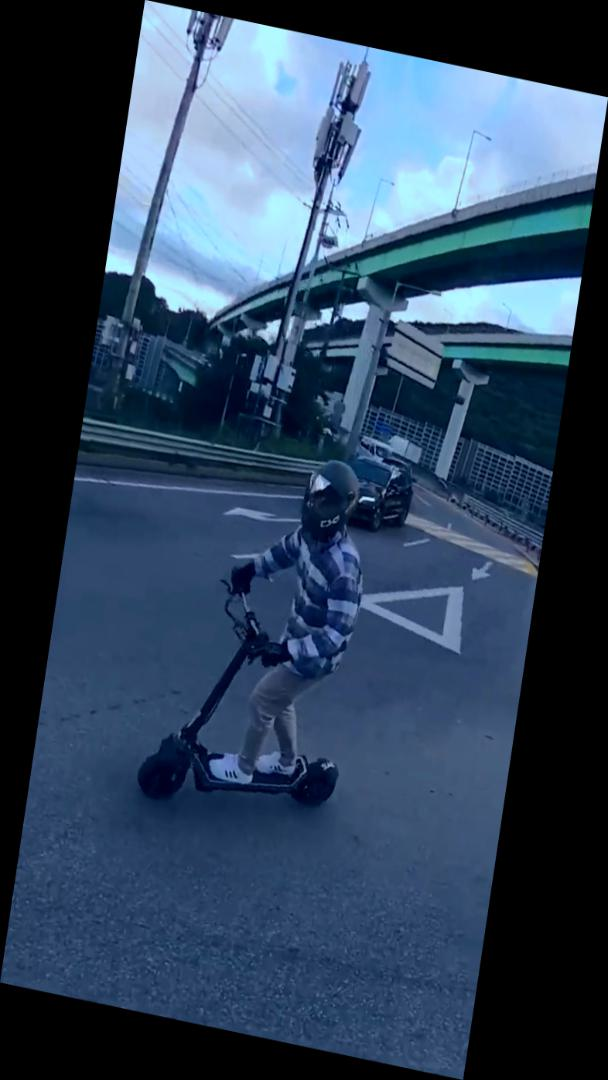helmet: (131, 426, 388, 843)
